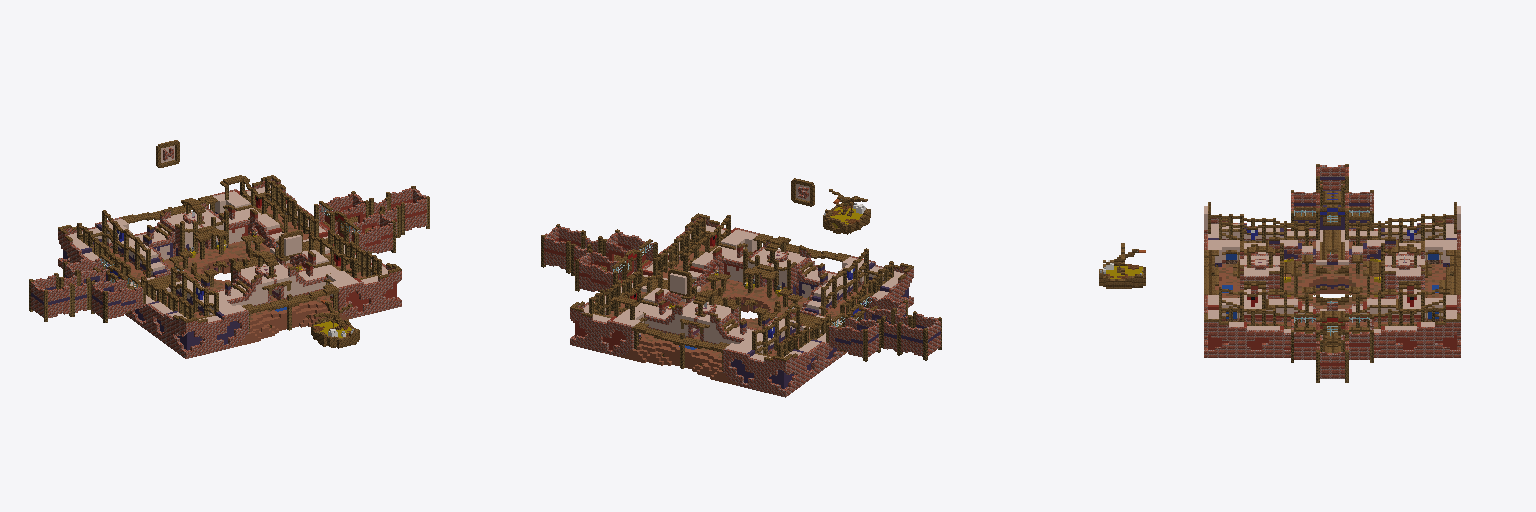
The picture shows the model from 3 angles: view 1: azimuth 30°, elevation 25°; view 2: azimuth 150°, elevation 25°; view 3: azimuth 270°, elevation 25°; orthographic projection.
Bounding box in the file's own units: 123 × 30 × 100.
35 materials, 14 textured.